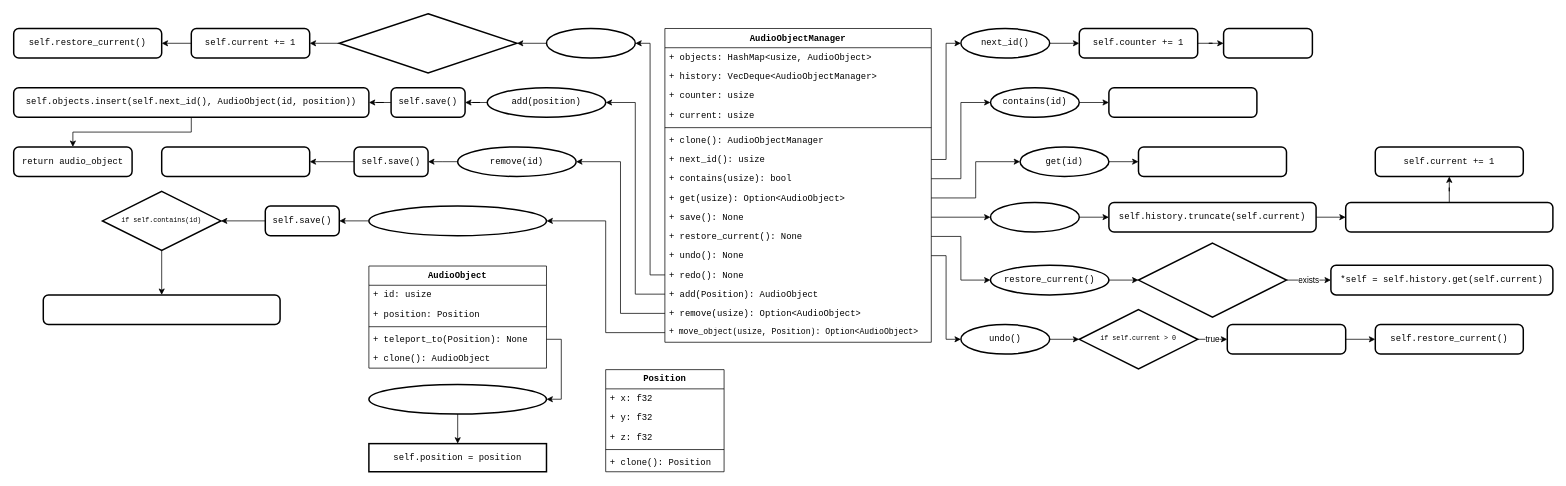
The diagram is 1566 pixels wide and 486 high, and some of its shapes have lost their labels. Here are the shapes that lost their labels. From the top down, the centre of each, then its label:
At (427,43): "if self.current < self.history.len() - 1".
At (590,42): "redo()".
At (1267,42): "self.counter".
At (1182,102): "self.objects.contains(id)".
At (235,161): "return self.objects.remove(id)".
At (1212,161): "self.objects.get(id)".
At (457,220): "move_object(id, to_position)".
At (1034,216): "save()".
At (1449,216): "self.history.push_back(self.clone())".
At (1212,279): "if self.history(self.current)".
At (161,309): "self.objects.get(id).teleport(to_position)".
At (1286,338): "self.current -= 1".
At (457,398): "teleport_to(position)".
